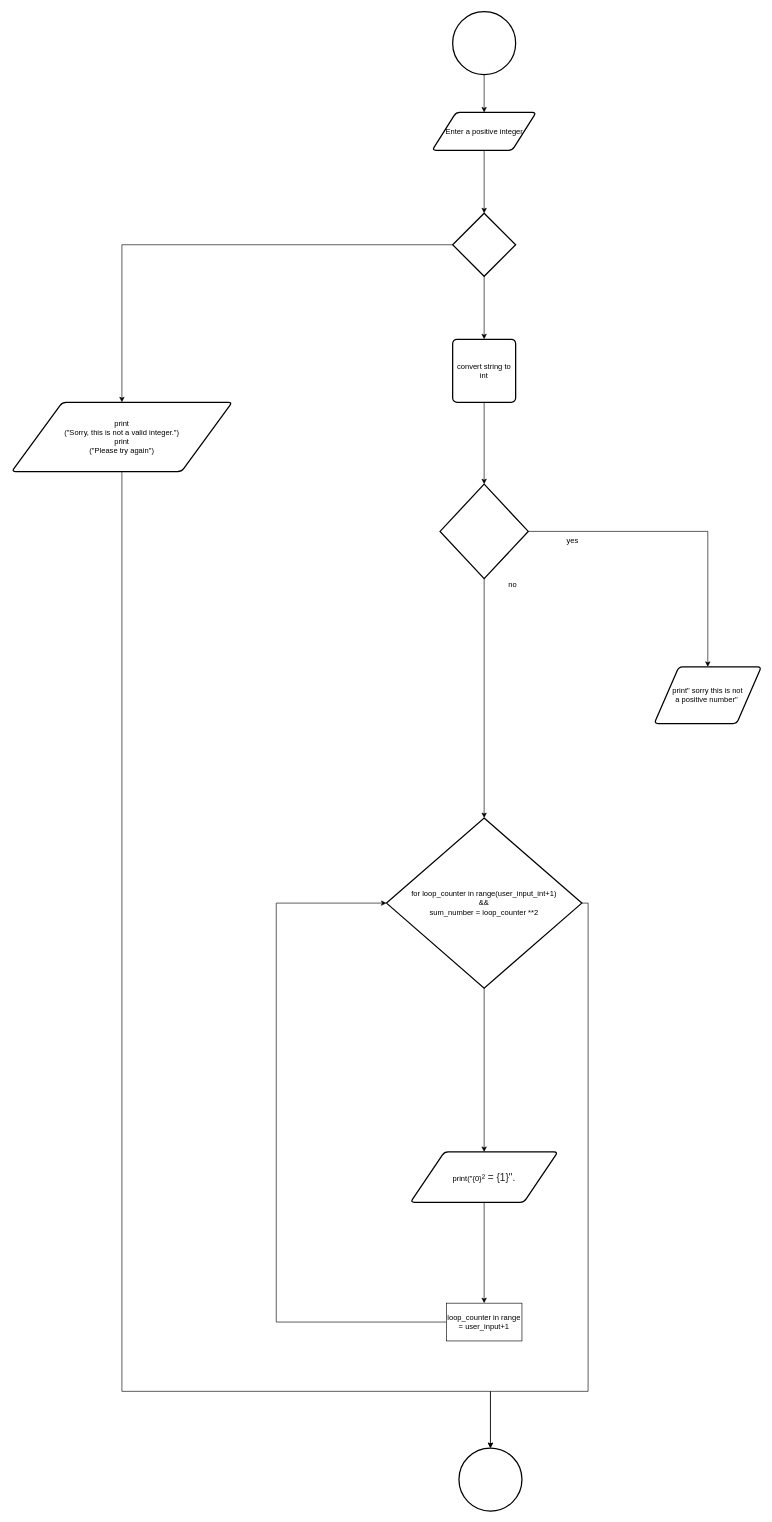
This 772x1522 diagram has some shape labels left out. The shapes that lost their labels are listed below. From the top down, each one's centre as x and y in pixels, then its label:
At pixel 484 43: "Start".
At pixel 484 244: "try".
At pixel 484 531: "if user_input_int < 0".
At pixel 490 1479: "Stop".
